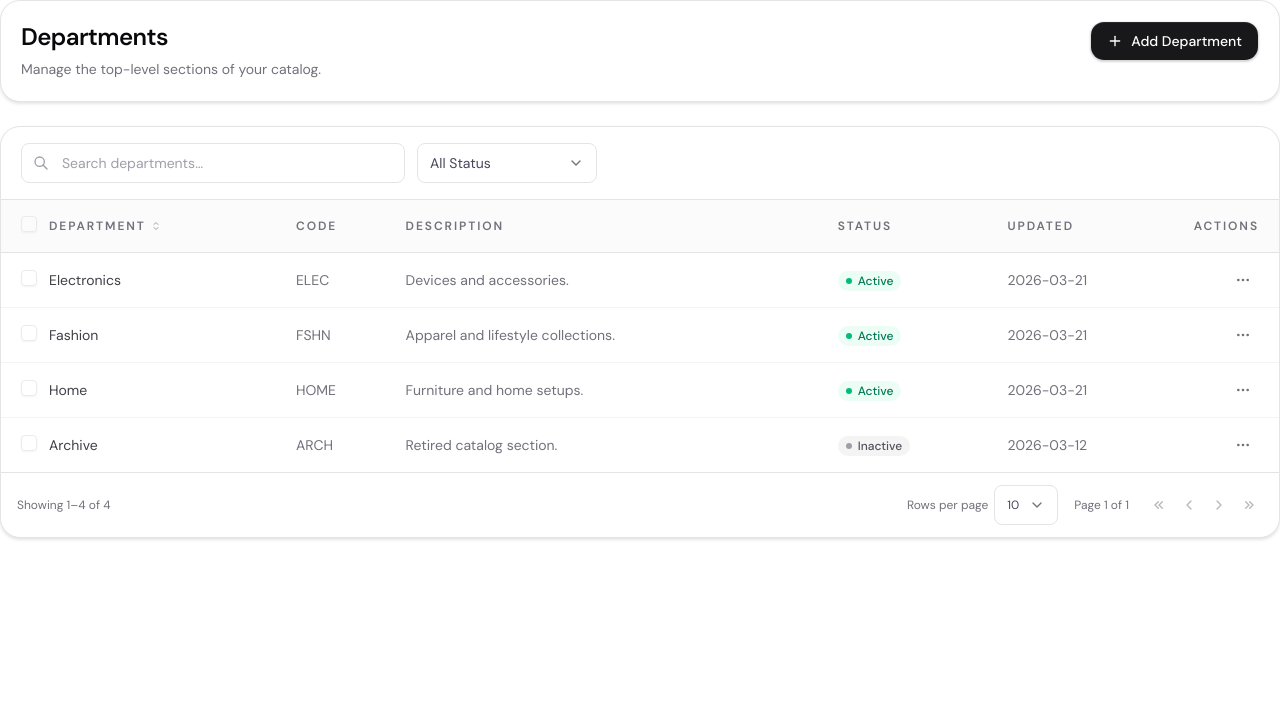
it: DepartmentsModule › opens add dialog when clicking Add Department
Click the button "Add Department": click(1175, 41) [1090,21,1259,61]
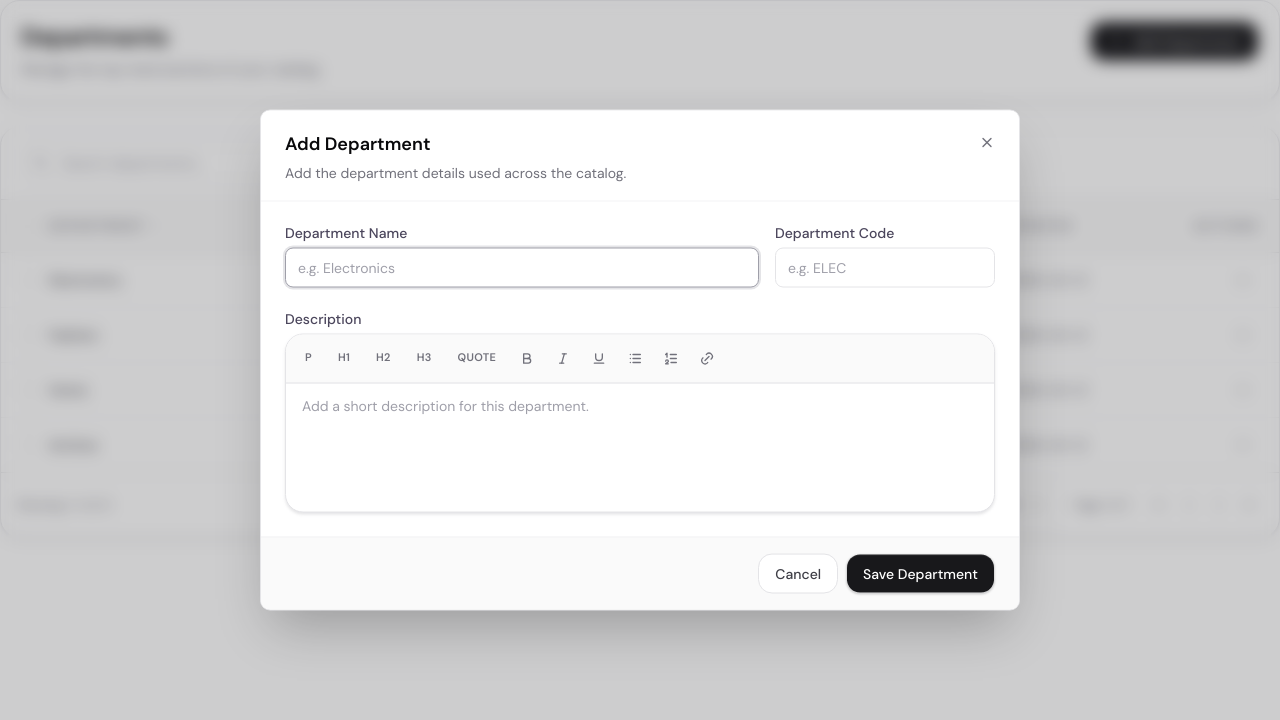
Expected: the heading "Add Department" is shown, [285,132,430,156]
